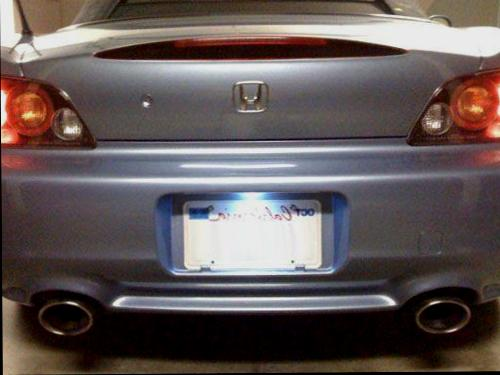License_Plate: (177, 195, 328, 276)
